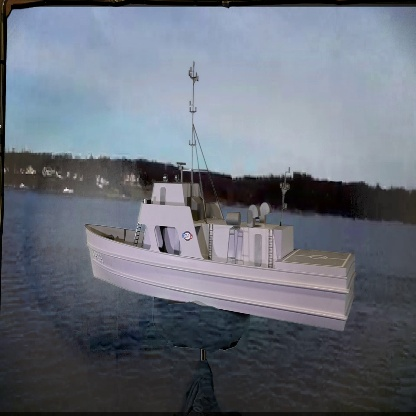YP689: (85, 61, 356, 333)
